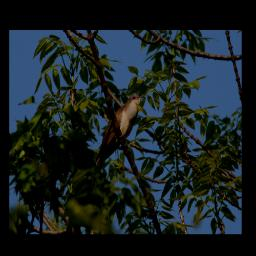Cuckoo: (93, 94, 144, 171)
